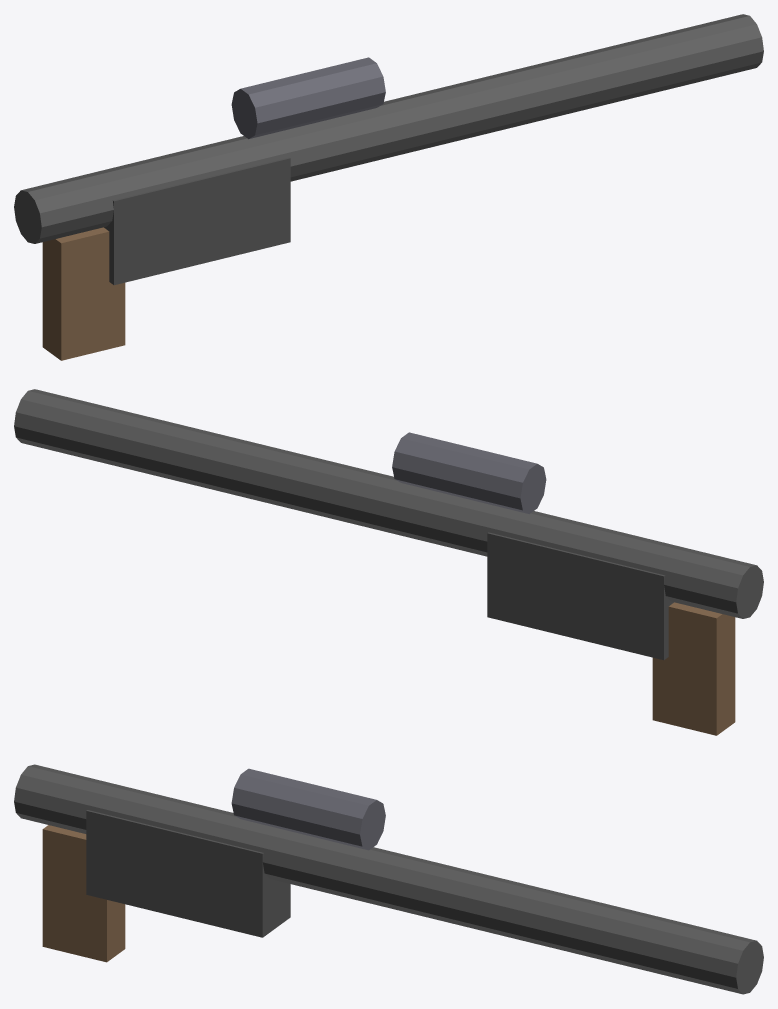
Rendered from gun_sniper.glb.
3 renders of one model, top to bottom at view 1: azimuth 30°, elevation 25°; view 2: azimuth 150°, elevation 25°; view 3: azimuth 330°, elevation 25°, orthographic.
Visible parts, largest first — view 1: gun_sniper; view 2: gun_sniper; view 3: gun_sniper.
Boxes of the visible parts, left/top/right/bottom form: gun_sniper: left=14, top=14, right=763, bottom=360; gun_sniper: left=14, top=389, right=763, bottom=735; gun_sniper: left=14, top=764, right=763, bottom=994.
Bounding box in the file's own units: 0.9 × 0.2566 × 0.06.
